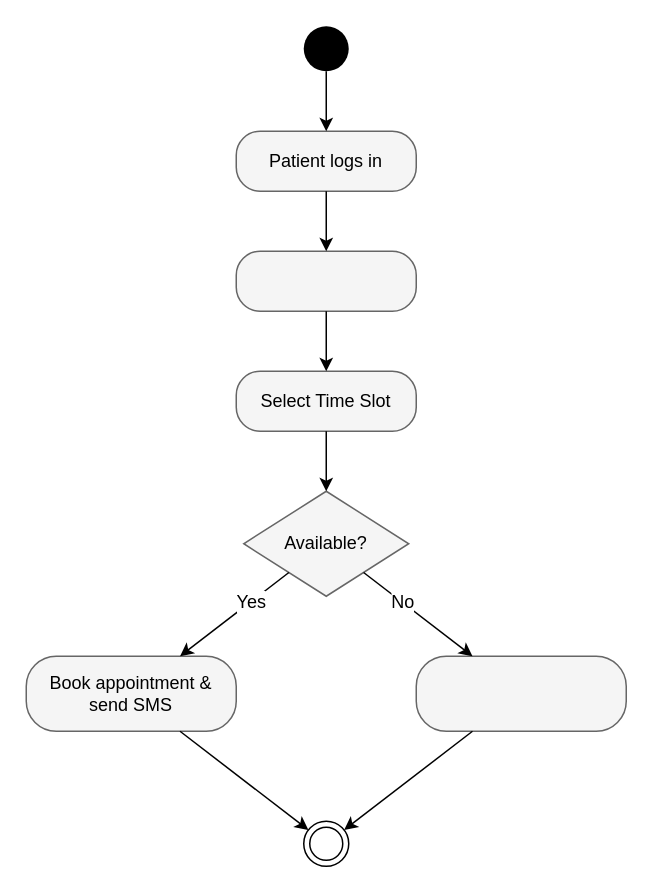
The diagram is 653 pixels wide and 893 high, and some of its shapes have lost their labels. The centre of each missing label's shape, as x and y in pixels:
Search for Doctor: [325,280]
Show unavailable message: [520,693]
